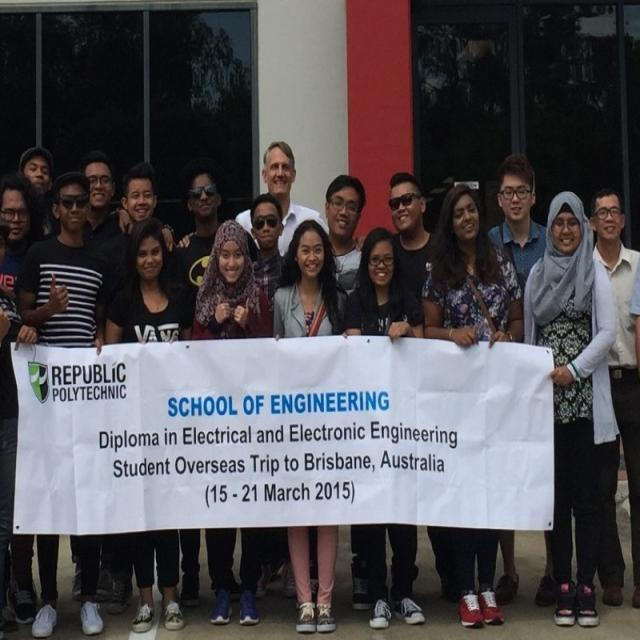body: (418, 182, 526, 630), (518, 187, 622, 629), (16, 172, 110, 639), (103, 216, 197, 634), (190, 218, 274, 627), (342, 226, 426, 633), (486, 150, 560, 612), (271, 217, 350, 636), (387, 171, 455, 609), (308, 172, 374, 614), (584, 189, 639, 609), (10, 140, 224, 222), (0, 213, 41, 639), (234, 139, 331, 258), (0, 180, 41, 312), (242, 193, 287, 268), (626, 248, 639, 376)
